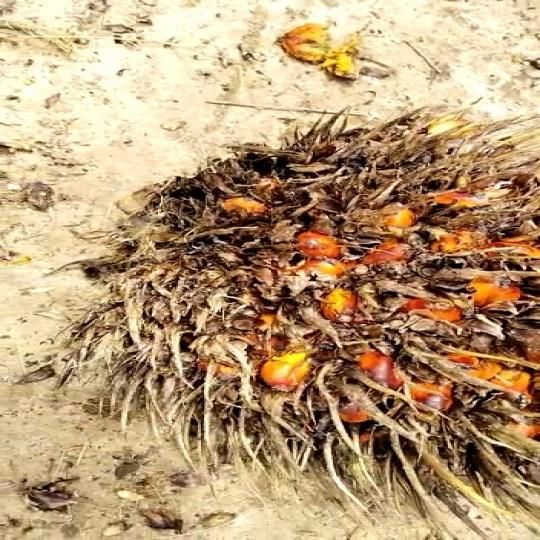terlalu masak: (74, 100, 540, 533)
